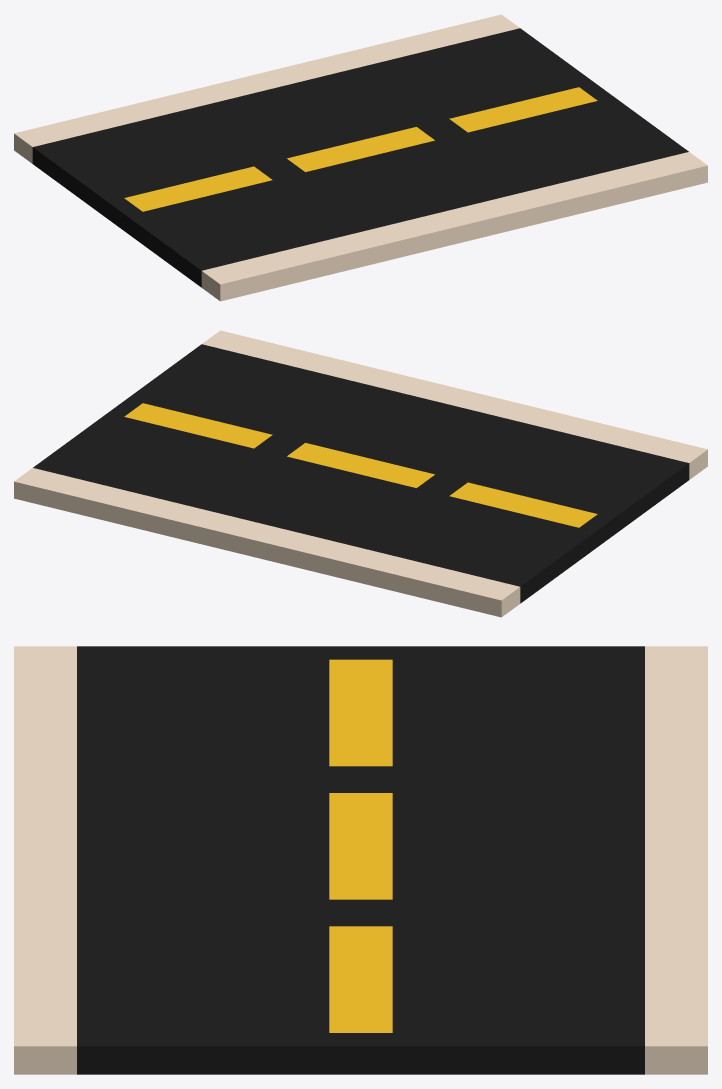
File: RaodP1.obj
The picture shows the model from 3 angles, top to bottom: view 1: azimuth 30°, elevation 25°; view 2: azimuth 150°, elevation 25°; view 3: azimuth 270°, elevation 25°; orthographic projection. The views are drawn at different scales.
Size of the model in its own units: 3 by 0.1 by 2.2.
1 material, 1 textured.
